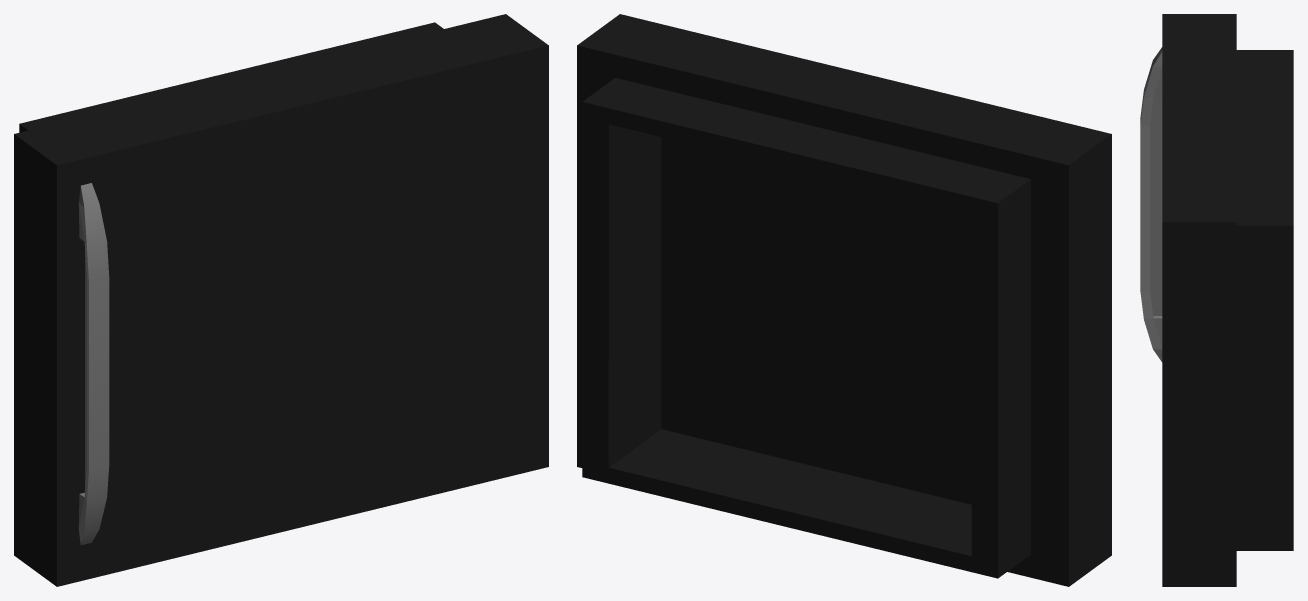
The model's file is Itr_Obj_Fridge2_Bottom_Door_02.FBX.
3 renders of one model, left to right at view 1: azimuth 30°, elevation 25°; view 2: azimuth 150°, elevation 25°; view 3: azimuth 270°, elevation 25°, orthographic. The views are drawn at different scales.
Parts seen in each view (by area): view 1: Itr_Obj_Fridge2_Bottom_Door_02; view 2: Itr_Obj_Fridge2_Bottom_Door_02; view 3: Itr_Obj_Fridge2_Bottom_Door_02.
Part boxes in pixels (bbox=[...]): Itr_Obj_Fridge2_Bottom_Door_02: bbox=[14, 14, 548, 586]; Itr_Obj_Fridge2_Bottom_Door_02: bbox=[577, 14, 1111, 586]; Itr_Obj_Fridge2_Bottom_Door_02: bbox=[1140, 14, 1293, 586].
Bounding box in the file's own units: 34.44 × 28.21 × 10.74.
